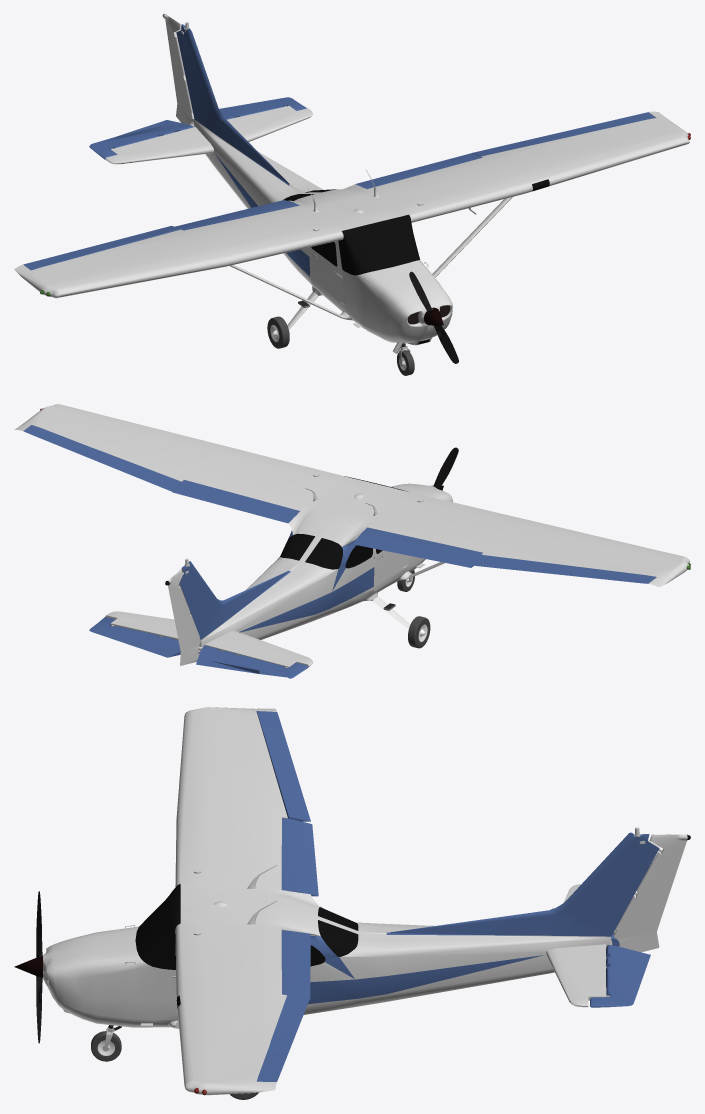
Rendered from Cessna172.fbx.
The picture shows the model from 3 angles, top to bottom: view 1: azimuth 30°, elevation 25°; view 2: azimuth 150°, elevation 25°; view 3: azimuth 270°, elevation 25°; orthographic projection. The views are drawn at different scales.
Parts seen in each view (by area): view 1: cessna172sp_Shape; view 2: cessna172sp_Shape; view 3: cessna172sp_Shape.
Boxes of the visible parts, left/top/right/bottom form: cessna172sp_Shape: left=14, top=14, right=690, bottom=375; cessna172sp_Shape: left=14, top=404, right=690, bottom=678; cessna172sp_Shape: left=14, top=707, right=690, bottom=1099.
Bounding box in the file's own units: 439 × 123 × 326.
